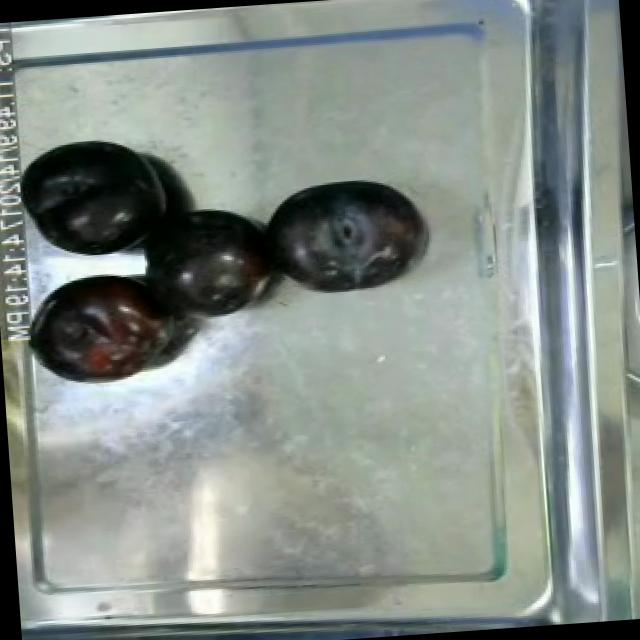Fruit: (253, 166, 435, 304), (12, 128, 182, 269), (22, 257, 190, 398), (125, 195, 285, 327)
